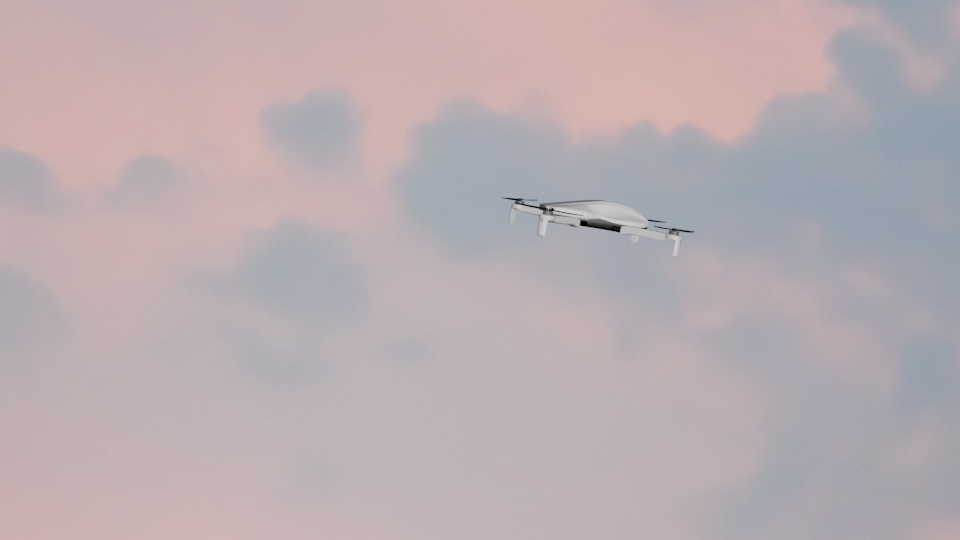drone: (501, 196, 695, 255)
